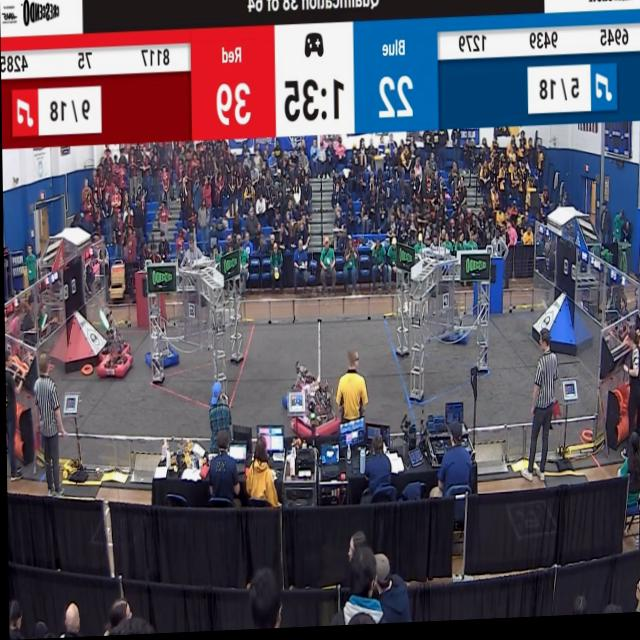Robot: (294, 375, 340, 444), (96, 319, 135, 384), (439, 291, 470, 352), (280, 368, 314, 408)
